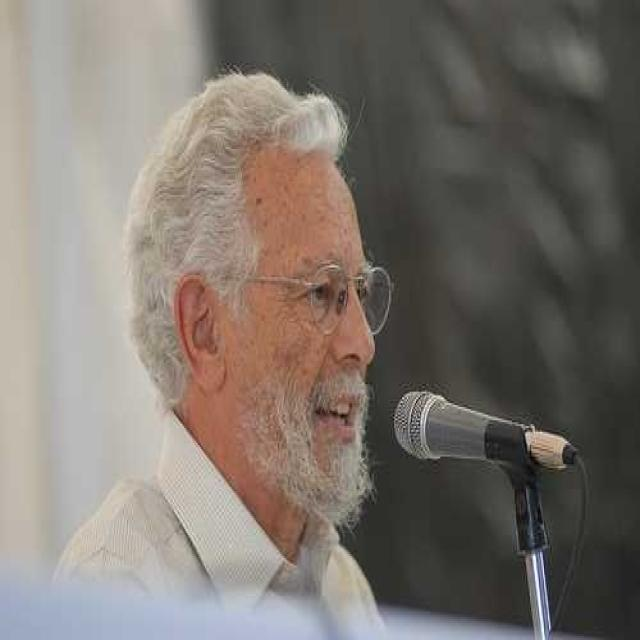microphone: (391, 388, 571, 478)
